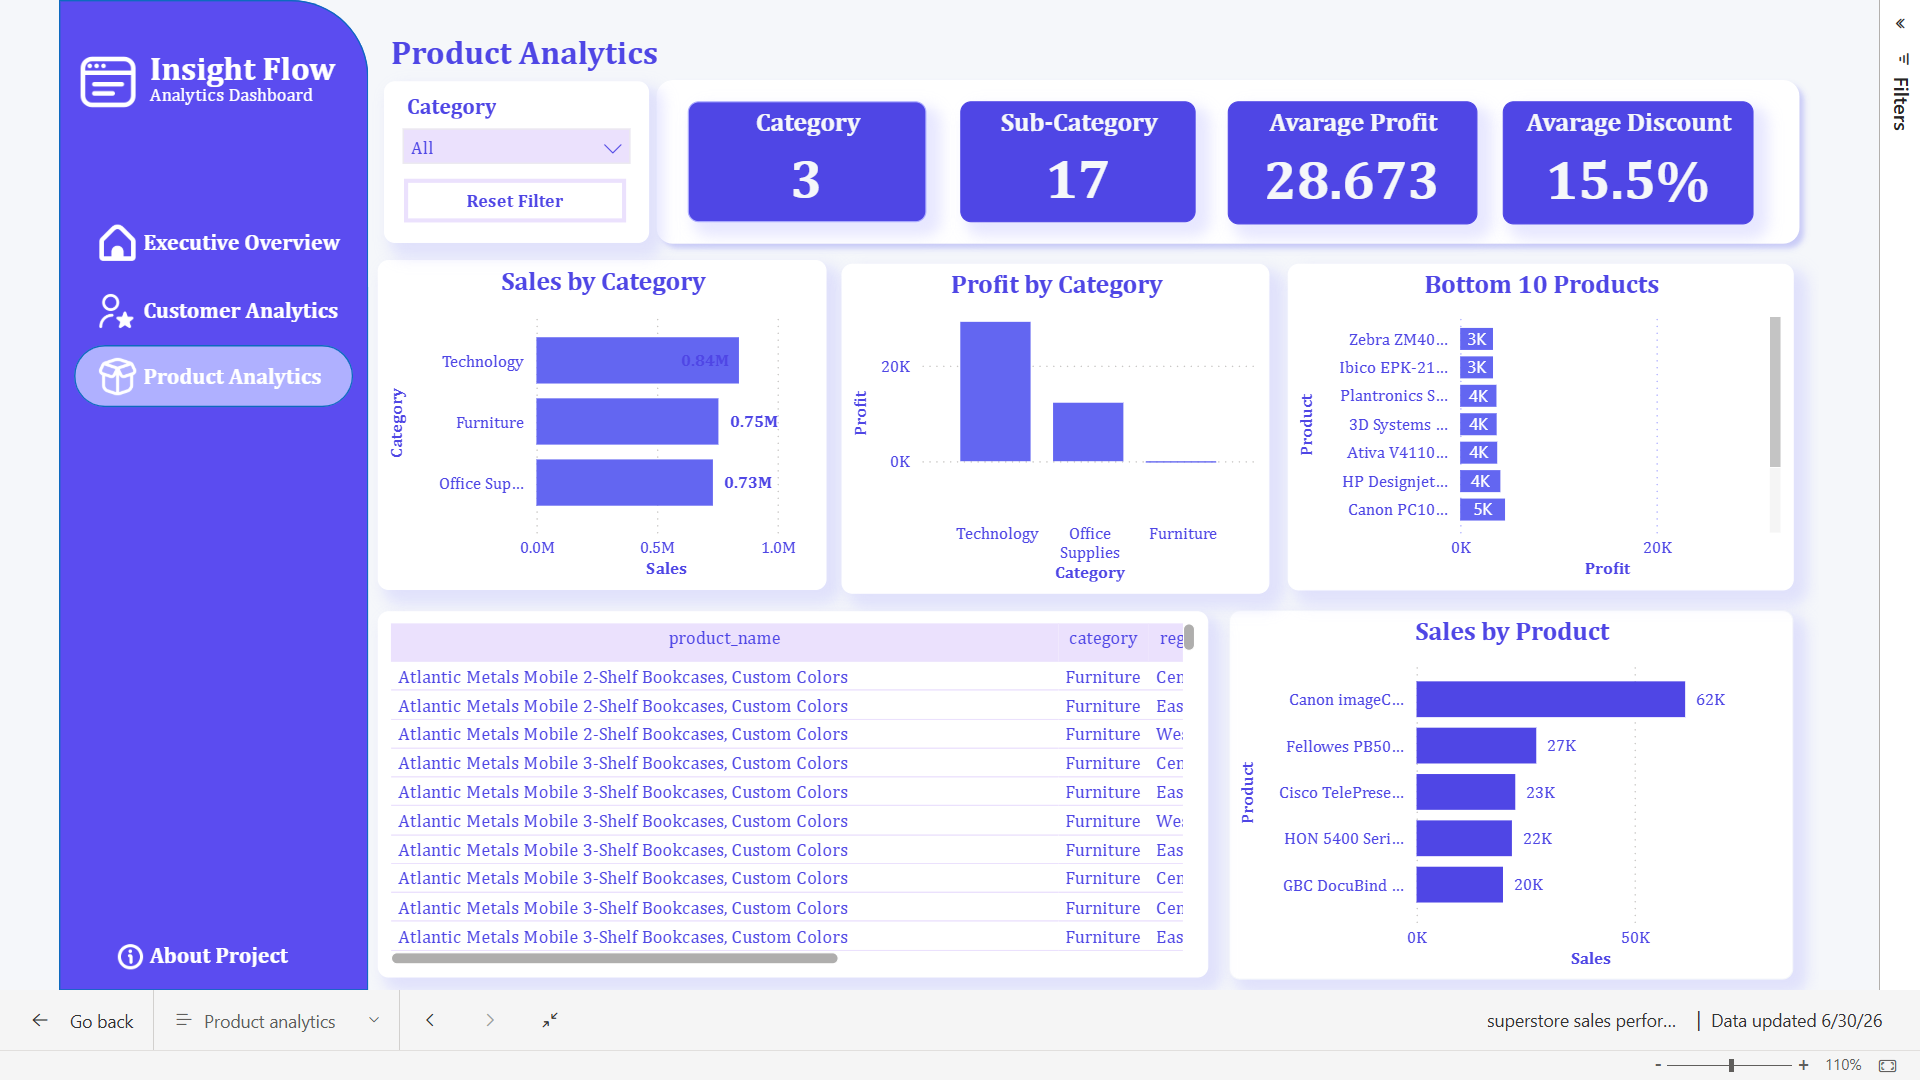

Layout of this report page (visuals, bound fields, positions):
{"tool":"powerbi","page":{"name":"Product analytics","canvas":[1280,720],"ordinal":2},"visuals":[{"type":"shape","box":[0,0,225,720.4],"z":0},{"type":"textbox","box":[61.1,30,170,41.1],"z":1000},{"type":"shape","box":[11,250.7,203,45.2],"z":2000},{"type":"textbox","box":[61.2,54.7,170,34.1],"z":3000},{"type":"image","box":[11.1,30,50,58.9],"z":4000},{"type":"textbox","box":[61.1,680,180,31.1],"z":5000},{"type":"textbox","box":[56.5,161.5,180,30.5],"z":6000},{"type":"image","box":[36.1,681.7,31.1,28.3],"z":7000},{"type":"group","id":"g1","title":"Group 1","box":[24.7,208.6,211.3,37],"z":8000},{"type":"textbox","box":[56.1,211.6,180,31.1],"z":8000,"group":"g1"},{"type":"group","id":"g2","title":"Group 2","box":[22,255.2,214.1,37],"z":9000},{"type":"textbox","box":[56.8,258.9,180,31.1],"z":9000,"group":"g2"},{"type":"image","box":[24.6,154.2,36.5,44.6],"z":10000},{"type":"shape","box":[425.4,49.4,849.4,137.2],"z":12000},{"type":"card","title":"Category","fields":{"Values":["public superstore.Total Categories"]},"box":[457.3,74,173.3,88],"z":13000},{"type":"card","title":"Sub-Category","fields":{"Values":["public superstore.Total Subcategories"]},"box":[655.3,74,171.3,88],"z":14000},{"type":"image","box":[24.7,208.6,34.8,36.7],"z":14000,"group":"g1"},{"type":"card","title":"Avarage Profit","fields":{"Values":["public superstore.Average Profit"]},"box":[850,73.3,181.3,89.3],"z":15000},{"type":"image","box":[22,255.2,40.9,37.3],"z":15000,"group":"g2"},{"type":"clusteredBarChart","title":"Sales by Product","fields":{"Category":["public superstore.product_name"],"Y":["Sum(public superstore.sales)"]},"box":[850.8,443.2,410.3,269],"z":16000},{"type":"clusteredBarChart","title":"Sales by Category","fields":{"Category":["public superstore.category"],"Y":["Sum(public superstore.sales)"]},"box":[231.9,189.4,326.6,240.1],"z":17000},{"type":"clusteredColumnChart","title":"Profit by Category","fields":{"Y":["Sum(public superstore.profit)"],"Category":["public superstore.category"]},"box":[569.5,192.1,311.5,240.1],"z":18000},{"type":"textbox","box":[236,17.8,205.8,41.2],"z":19000},{"type":"tableEx","title":"Tabel","fields":{"Values":["public superstore.product_name","public superstore.category","public superstore.region","public superstore.sub_category","Sum(public superstore.sales)","Sum(public superstore.profit)","public superstore.discount","Sum(public superstore.quantity)"]},"box":[231.9,444.6,603.8,266.2],"z":20000},{"type":"slicer","fields":{"Values":["public superstore.category"]},"box":[236,59,192.8,117.4],"z":21000,"group":"g3"},{"type":"card","title":"Avarage Discount","fields":{"Values":["public superstore.Average Discount"]},"box":[1050,74,182,89.3],"z":21000},{"type":"actionButton","box":[250.9,129.9,161.6,31.8],"z":22000,"group":"g3"},{"type":"barChart","title":"Bottom 10 Products","fields":{"Category":["public superstore.product_name"],"Y":["Sum(public superstore.profit)"]},"box":[893.3,192.1,367.8,237.4],"z":22000},{"type":"group","id":"g3","title":"Group 4","box":[236,59,193.5,118],"z":23000},{"type":"actionButton","box":[10,206.4,204.5,41.8],"z":24000},{"type":"actionButton","box":[10.9,156.4,204.5,41.8],"z":25000}]}

Visuals, with their boxes on the page's 1280x720 design canvas (x1, y1, x2, y2). These are canvas units, not pixel positions in the 1920x1080 screenshot, which may show the page scaled, cropped or inside an application window:
shape: l=0, t=0, r=225, b=720
textbox: l=61, t=30, r=231, b=71
shape: l=11, t=251, r=214, b=296
textbox: l=61, t=55, r=231, b=89
image: l=11, t=30, r=61, b=89
textbox: l=61, t=680, r=241, b=711
textbox: l=56, t=162, r=236, b=192
image: l=36, t=682, r=67, b=710
"Group 1" group: l=25, t=209, r=236, b=246
textbox: l=56, t=212, r=236, b=243
"Group 2" group: l=22, t=255, r=236, b=292
textbox: l=57, t=259, r=237, b=290
image: l=25, t=154, r=61, b=199
shape: l=425, t=49, r=1275, b=187
"Category" card: l=457, t=74, r=631, b=162
"Sub-Category" card: l=655, t=74, r=827, b=162
image: l=25, t=209, r=60, b=245
"Avarage Profit" card: l=850, t=73, r=1031, b=163
image: l=22, t=255, r=63, b=292
"Sales by Product" clusteredBarChart: l=851, t=443, r=1261, b=712
"Sales by Category" clusteredBarChart: l=232, t=189, r=558, b=430
"Profit by Category" clusteredColumnChart: l=570, t=192, r=881, b=432
textbox: l=236, t=18, r=442, b=59
"Tabel" tableEx: l=232, t=445, r=836, b=711
slicer - public superstore.category: l=236, t=59, r=429, b=176
"Avarage Discount" card: l=1050, t=74, r=1232, b=163
actionButton: l=251, t=130, r=412, b=162
"Bottom 10 Products" barChart: l=893, t=192, r=1261, b=430
"Group 4" group: l=236, t=59, r=430, b=177
actionButton: l=10, t=206, r=214, b=248
actionButton: l=11, t=156, r=215, b=198
